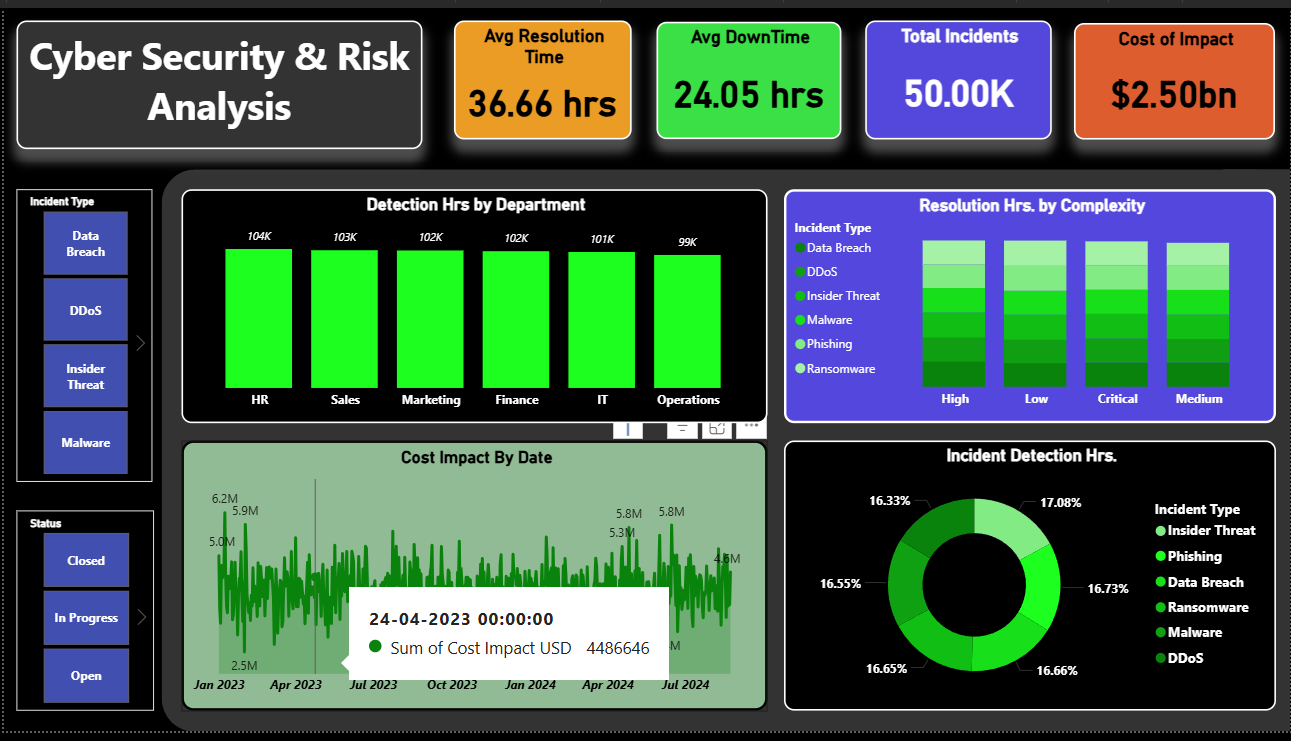

This screenshot's page, from the dashboard's own definition file:
{"tool":"powerbi","page":{"name":"Page 1","canvas":[1280,720],"ordinal":0},"visuals":[{"type":"shape","box":[157.2,159.9,1123.1,560.2],"z":0,"group":"g1"},{"type":"group","id":"g1","title":"Group 1","box":[157.2,159.9,1123.1,560.2],"z":0},{"type":"shape","box":[1213,159.9,67.3,560.2],"z":1000,"group":"g1"},{"type":"columnChart","title":"Resolution Hrs. by Complexity","fields":{"Category":["cybersecurity_incidents.Severity Level"],"Y":["Sum(cybersecurity_incidents.Resolution Time Hours)"],"Series":["cybersecurity_incidents.Incident Type"]},"box":[776.1,181,489.4,233.2],"z":1000},{"type":"lineChart","title":"Cost Impact By Date","fields":{"Category":["cybersecurity_incidents.Incident Date"],"Y":["Sum(cybersecurity_incidents.Cost Impact USD)"]},"box":[176.9,431,583.1,269],"z":2000},{"type":"clusteredColumnChart","title":"Detection Hrs by Department","fields":{"Y":["Sum(cybersecurity_incidents.Detection Time Hours)"],"Category":["cybersecurity_incidents.Department Affected"]},"box":[176.9,181,583.1,233.2],"z":3000},{"type":"donutChart","title":"Incident Detection Hrs.","fields":{"Y":["Sum(cybersecurity_incidents.Detection Time Hours)"],"Category":["cybersecurity_incidents.Incident Type"]},"box":[776.1,431,489.4,269],"z":4000},{"type":"card","title":"Total Incidents","fields":{"Values":["Count(cybersecurity_incidents.Incident ID)"]},"box":[857.1,12.4,185.3,118.2],"z":5000},{"type":"card","title":"Avg Resolution Time","fields":{"Values":["Avg(cybersecurity_incidents.Resolution Time Hours)"]},"box":[447.8,12.4,176.6,118.2],"z":6000},{"type":"card","title":"Cost of Impact","fields":{"Values":["Sum(cybersecurity_incidents.Cost Impact USD)"]},"box":[1064.8,14.9,200.3,115.7],"z":7000},{"type":"card","title":"Avg DownTime","fields":{"Values":["Avg(cybersecurity_incidents.System Downtime Hours)"]},"box":[649.3,13.7,184.1,116.9],"z":8000},{"type":"textbox","box":[12.4,12.4,404.3,128.1],"z":9000},{"type":"slicer","fields":{"Values":["cybersecurity_incidents.Incident Type"]},"box":[12.4,180.4,135.6,291.1],"z":10000},{"type":"slicer","fields":{"Values":["cybersecurity_incidents.Status"]},"box":[12.4,500.1,136.8,199],"z":11000}]}

Visuals, with their boxes in screenshot pixels (x1, y1, x2, y2), scaled from the page's 1280x720 canvas onto the 1291x741 screenshot:
shape: [x1=159, y1=165, x2=1290, y2=740]
"Group 1" group: [x1=159, y1=165, x2=1290, y2=740]
shape: [x1=1223, y1=165, x2=1290, y2=740]
"Resolution Hrs. by Complexity" columnChart: [x1=783, y1=186, x2=1276, y2=426]
"Cost Impact By Date" lineChart: [x1=178, y1=444, x2=767, y2=720]
"Detection Hrs by Department" clusteredColumnChart: [x1=178, y1=186, x2=767, y2=426]
"Incident Detection Hrs." donutChart: [x1=783, y1=444, x2=1276, y2=720]
"Total Incidents" card: [x1=864, y1=13, x2=1051, y2=134]
"Avg Resolution Time" card: [x1=452, y1=13, x2=630, y2=134]
"Cost of Impact" card: [x1=1074, y1=15, x2=1276, y2=134]
"Avg DownTime" card: [x1=655, y1=14, x2=841, y2=134]
textbox: [x1=13, y1=13, x2=420, y2=145]
slicer - cybersecurity_incidents.Incident Type: [x1=13, y1=186, x2=149, y2=485]
slicer - cybersecurity_incidents.Status: [x1=13, y1=515, x2=150, y2=719]
